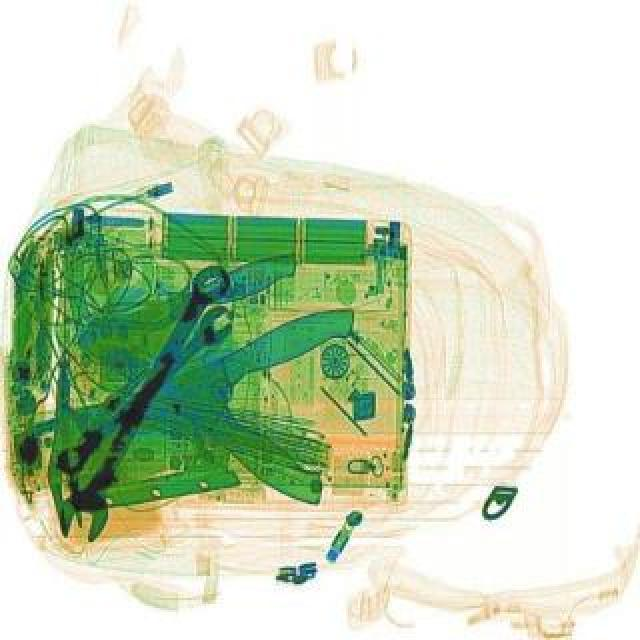knife: (64, 270, 364, 518), (50, 298, 366, 442), (70, 244, 302, 356)
scissors: (46, 256, 240, 548), (44, 298, 244, 480)
